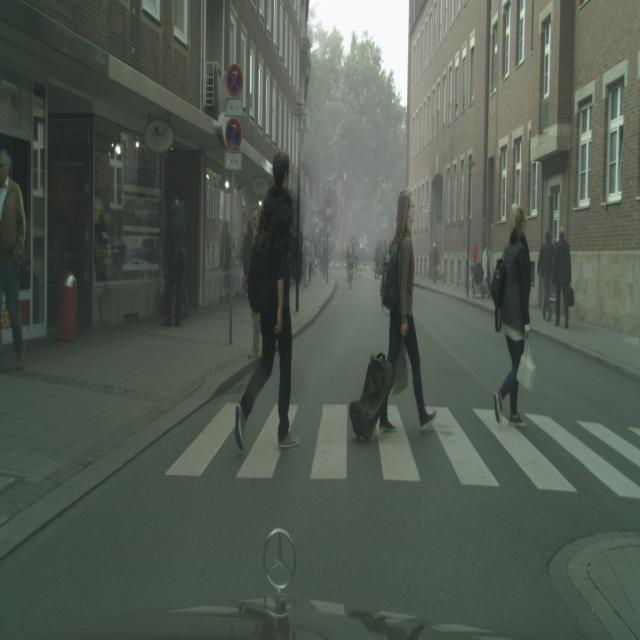car: (347, 239, 354, 289)
person: (237, 147, 300, 453), (377, 190, 437, 434), (492, 201, 532, 427), (0, 148, 27, 371), (240, 206, 262, 358), (162, 198, 187, 326), (552, 228, 572, 328), (537, 229, 554, 321), (219, 220, 232, 301), (469, 239, 482, 298), (304, 234, 314, 288), (429, 241, 440, 284), (321, 236, 329, 281)
